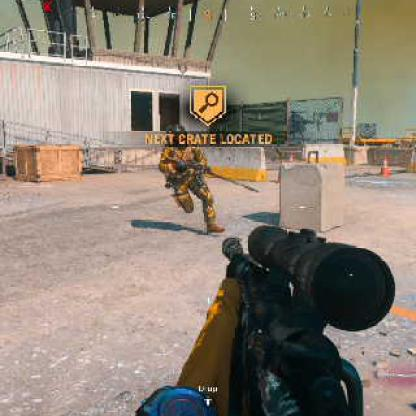enemy: (158, 124, 218, 232)
